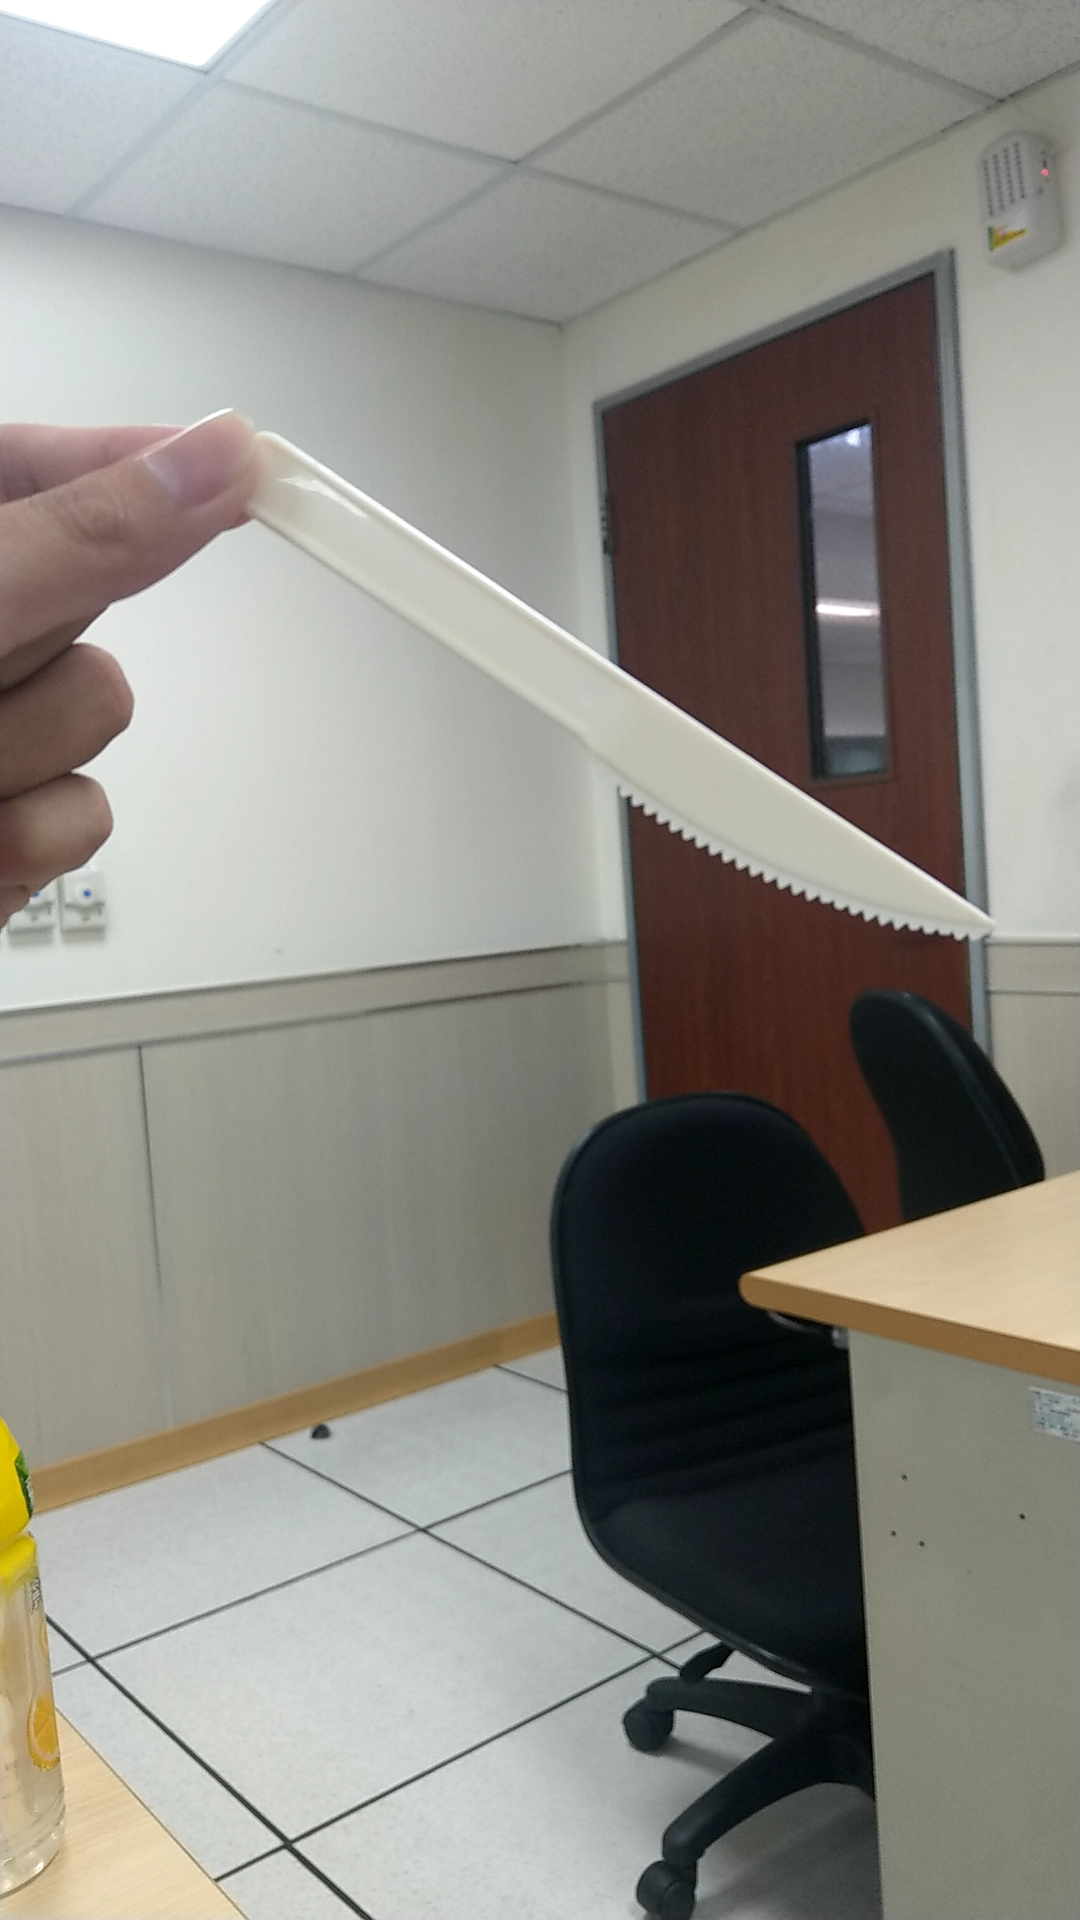knife: (261, 433, 1004, 953)
